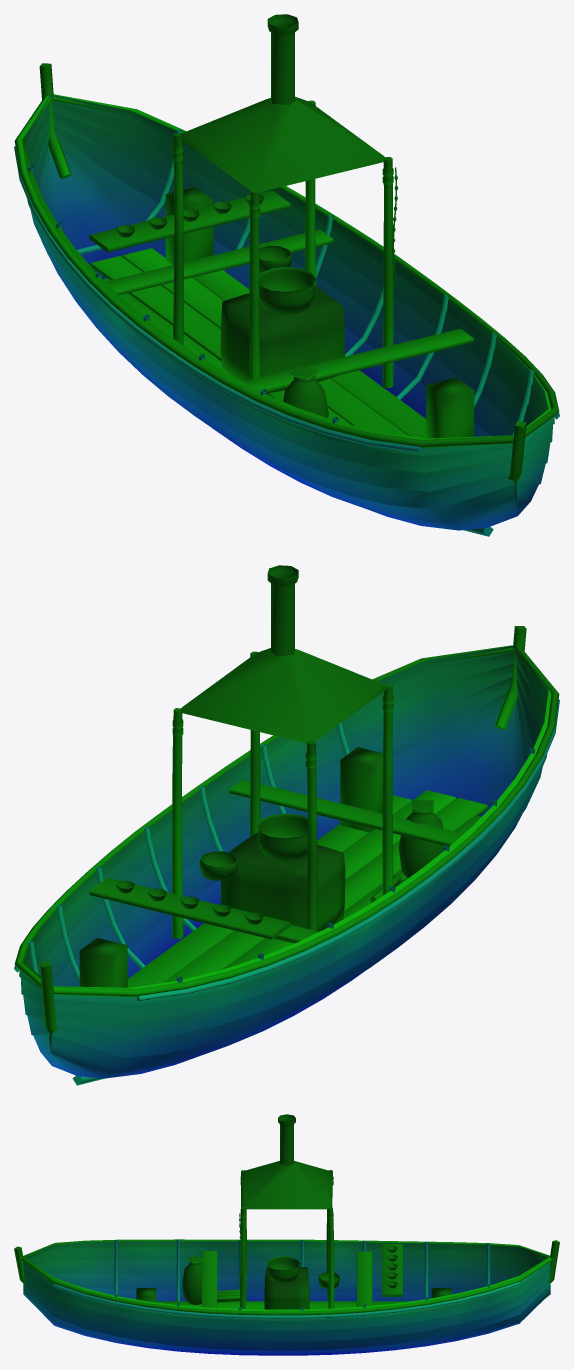
The model's file is cookboat.glb.
The picture shows the model from 3 angles, top to bottom: view 1: azimuth 30°, elevation 25°; view 2: azimuth 150°, elevation 25°; view 3: azimuth 270°, elevation 25°; orthographic projection. The views are drawn at different scales.
Parts seen in each view (by area): view 1: cookboat; view 2: cookboat; view 3: cookboat.
Boxes of the visible parts, x1,y1,x2,y2 form: cookboat: (14, 14, 559, 536); cookboat: (14, 565, 559, 1085); cookboat: (14, 1114, 559, 1355).
Size of what is drawn, in the model's own units: 2.5 by 3.6 by 7.77.
